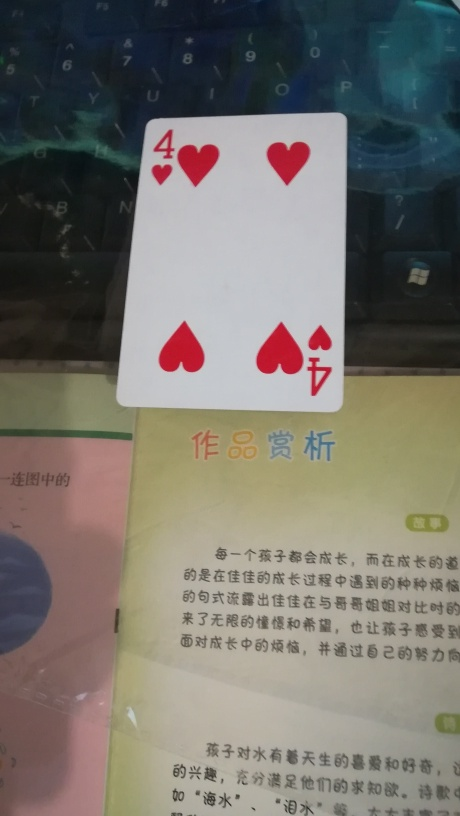hx 4: (113, 109, 349, 418)
